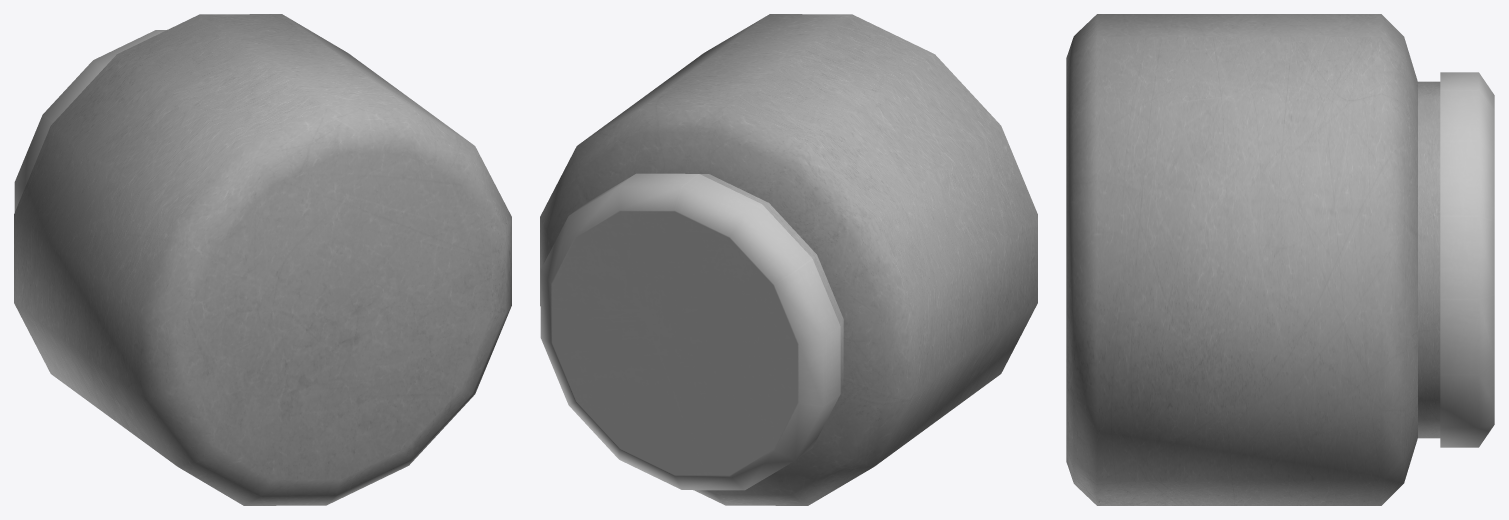
Rendered from Fixed_Item_Bottle Wide3_Ver1.fbx.
3 views of the same model, side by side, from view 1: azimuth 30°, elevation 25°; view 2: azimuth 150°, elevation 25°; view 3: azimuth 270°, elevation 25° (orthographic). The views are drawn at different scales.
Visible parts, largest first — view 1: Pill Bottle wide3_body, Pill Bottle wide3_cap; view 2: Pill Bottle wide3_body, Pill Bottle wide3_cap; view 3: Pill Bottle wide3_body, Pill Bottle wide3_cap.
Boxes of the visible parts, x1,y1,x2,y2 form: Pill Bottle wide3_body: [14, 14, 511, 505]; Pill Bottle wide3_cap: [14, 29, 167, 212]; Pill Bottle wide3_body: [540, 14, 1037, 505]; Pill Bottle wide3_cap: [540, 173, 840, 490]; Pill Bottle wide3_body: [1066, 14, 1440, 505]; Pill Bottle wide3_cap: [1440, 72, 1494, 447].
Size of the model in its own units: 152 by 156 by 136.
Materials: 1 (1 with a texture image).
